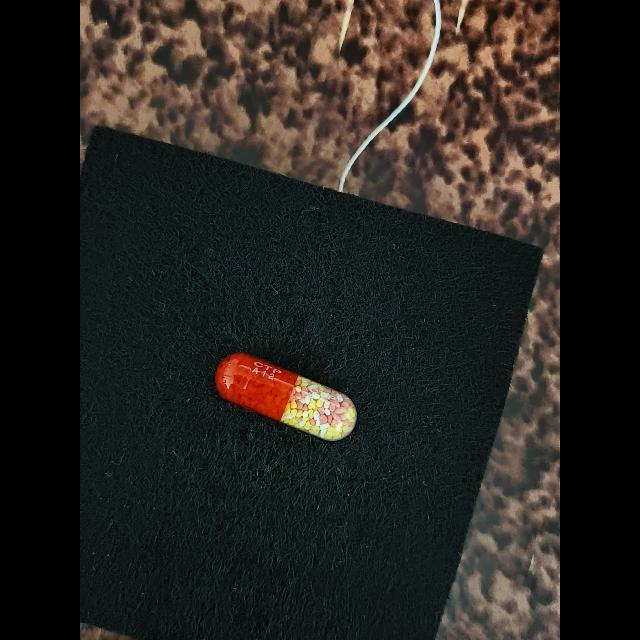Intact Capsule: (215, 353, 357, 441)
